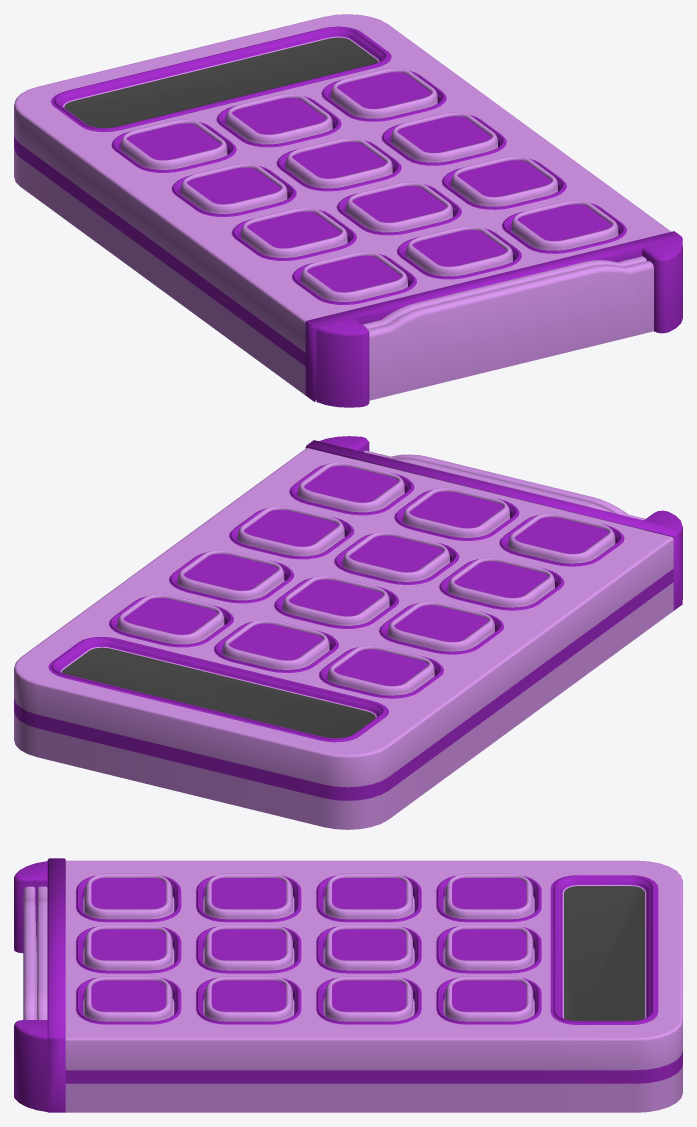
Rendered from Calculator.fbx.
The picture shows the model from 3 angles, top to bottom: view 1: azimuth 30°, elevation 25°; view 2: azimuth 150°, elevation 25°; view 3: azimuth 270°, elevation 25°; orthographic projection.
Parts seen in each view (by area): view 1: Calculator, Button-10, Button-11, Button-01, Button-07, Button-04, Button-08, Button-12, Button-05, Button-02, Button-09, Button-06 (+1 smaller); view 2: Calculator, Button-07, Button-01, Button-10, Button-04, Button-03, Button-02, Button-06, Button-11, Button-05, Button-09, Button-08 (+1 smaller); view 3: Calculator, Button-12, Button-03, Button-06, Button-09, Button-01, Button-11, Button-10, Button-08, Button-05, Button-02, Button-07 (+1 smaller).
Boxes of the visible parts, box(x1,y1,x2,y2) form: Calculator: box(14, 14, 682, 407); Button-10: box(331, 68, 437, 118); Button-11: box(225, 94, 332, 144); Button-01: box(511, 200, 618, 250); Button-07: box(391, 112, 497, 162); Button-04: box(451, 156, 557, 206); Button-08: box(286, 138, 392, 188); Button-12: box(120, 119, 227, 169); Button-05: box(346, 182, 452, 232); Button-02: box(406, 226, 512, 276); Button-09: box(180, 163, 287, 213); Button-06: box(241, 207, 347, 257); Calculator: box(14, 436, 682, 829); Button-07: box(177, 550, 284, 600); Button-01: box(298, 462, 404, 512); Button-10: box(117, 594, 224, 644); Button-04: box(238, 506, 344, 556); Button-03: box(508, 513, 615, 563); Button-02: box(403, 487, 509, 537); Button-06: box(448, 557, 554, 607); Button-11: box(222, 620, 329, 669); Button-05: box(343, 531, 449, 581); Button-09: box(388, 601, 494, 651); Button-08: box(283, 575, 389, 625); Calculator: box(14, 858, 682, 1112); Button-12: box(443, 873, 534, 919); Button-03: box(83, 873, 174, 919); Button-06: box(203, 873, 294, 919); Button-09: box(323, 873, 414, 919); Button-01: box(83, 976, 174, 1021); Button-11: box(443, 925, 534, 970); Button-10: box(443, 976, 534, 1021); Button-08: box(323, 925, 414, 970); Button-05: box(203, 925, 294, 970); Button-02: box(83, 925, 174, 970); Button-07: box(323, 976, 414, 1021).
Bounding box in the file's own units: 16.68 × 3.49 × 26.29.
